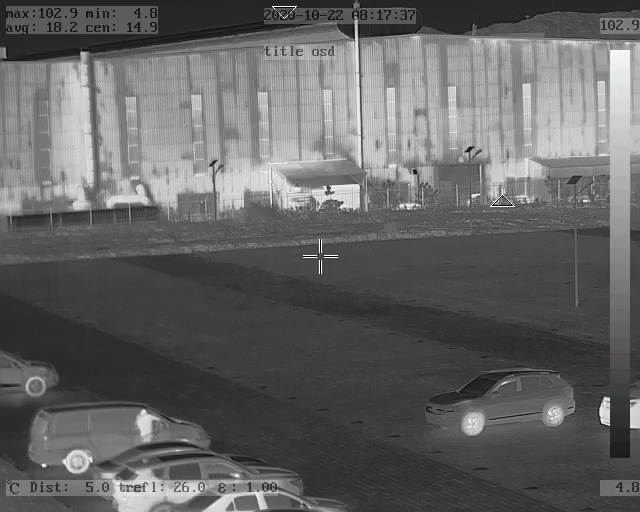vehicle: (29, 397, 219, 475), (433, 372, 571, 434), (160, 447, 310, 503), (181, 479, 346, 512), (1, 346, 57, 400), (87, 452, 152, 491)
